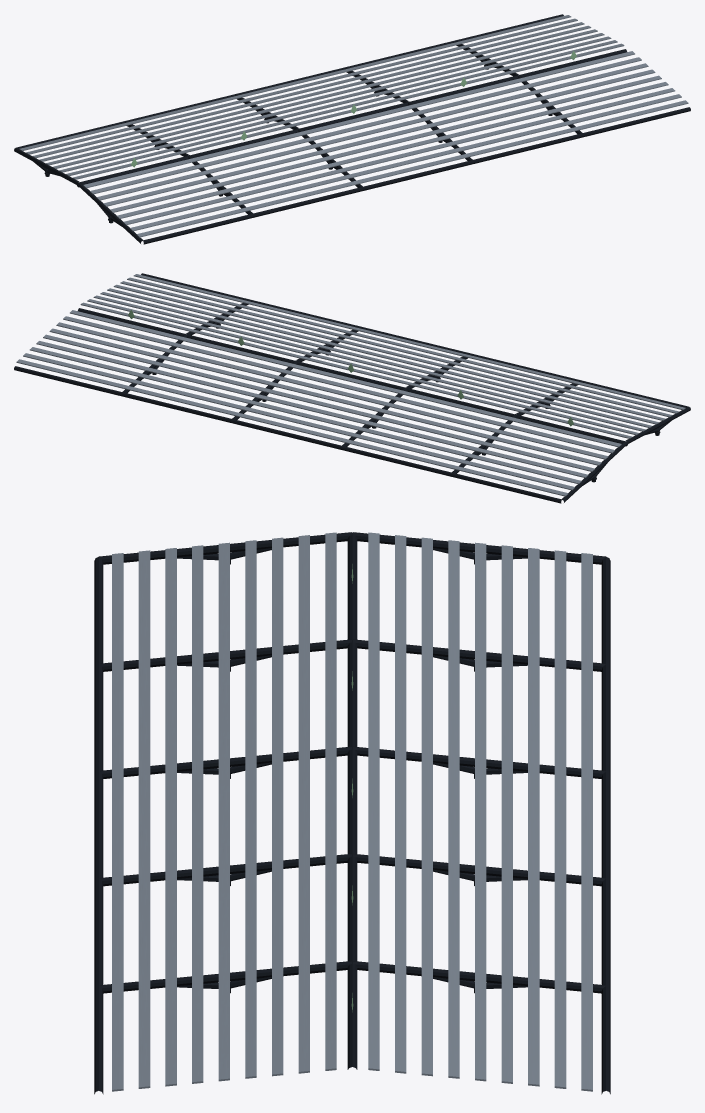
3 views of the same model, one above another, from view 1: azimuth 30°, elevation 25°; view 2: azimuth 150°, elevation 25°; view 3: azimuth 270°, elevation 25° (orthographic). The views are drawn at different scales.
Parts seen in each view (by area): view 1: Crown_Louvres, Crown_Frame; view 2: Crown_Louvres, Crown_Frame; view 3: Crown_Louvres, Crown_Frame.
Boxes of the visible parts, x1=… form: Crown_Louvres: x1=19, y1=15, x2=688, y2=237; Crown_Frame: x1=14, y1=14, x2=690, y2=244; Crown_Louvres: x1=16, y1=274, x2=685, y2=496; Crown_Frame: x1=14, y1=273, x2=690, y2=503; Crown_Louvres: x1=112, y1=532, x2=592, y2=1091; Crown_Frame: x1=94, y1=532, x2=610, y2=1094.
Size of the model in its own units: 20.08 by 0.985 by 8.14.
Materials: 3 (2 with a texture image).
